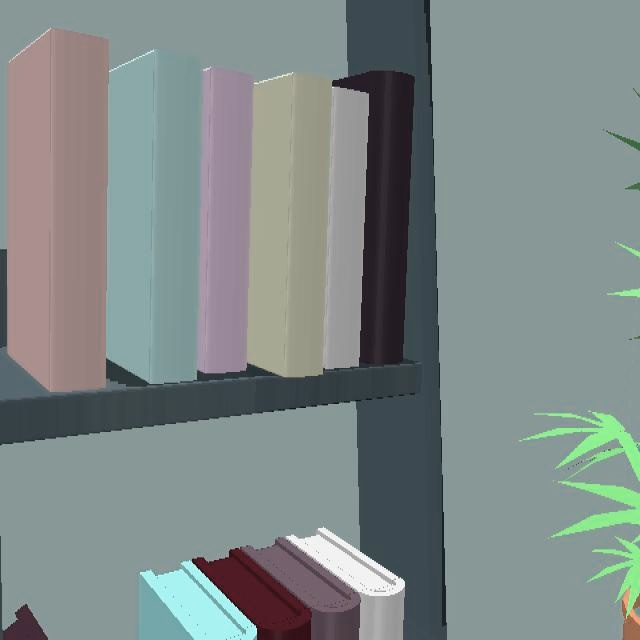book: (6, 28, 415, 395), (138, 529, 404, 640)
shelf: (0, 0, 446, 619)
